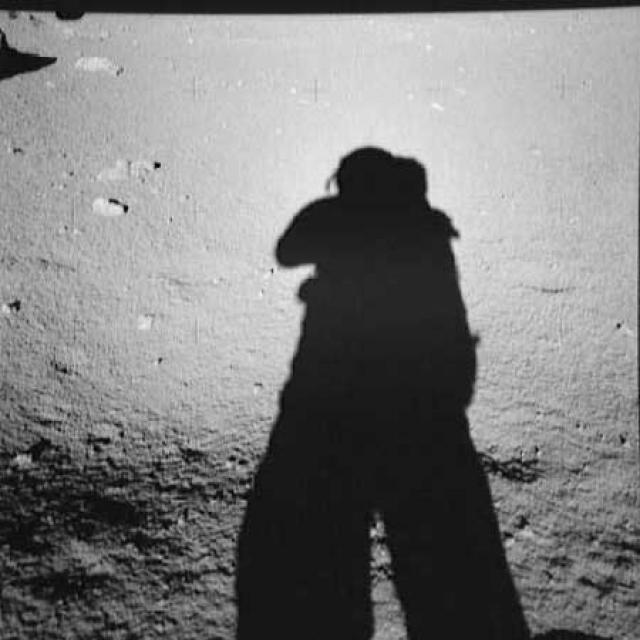rock: (94, 149, 166, 185), (75, 48, 128, 80), (88, 193, 134, 224)
